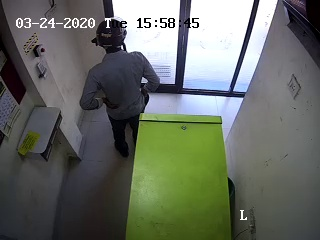helmet: (92, 17, 128, 56)
